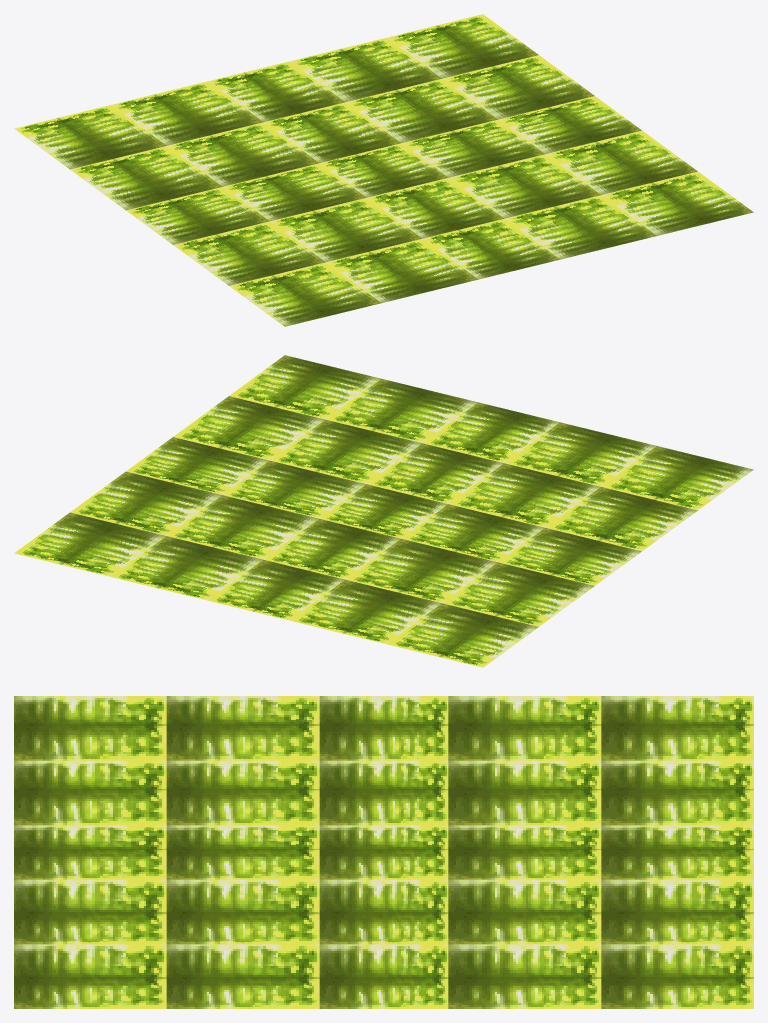
The model's file is demo-background.glb.
The picture shows the model from 3 angles, top to bottom: view 1: azimuth 30°, elevation 25°; view 2: azimuth 150°, elevation 25°; view 3: azimuth 270°, elevation 25°; orthographic projection. The views are drawn at different scales.
Bounding box in the file's own units: 0.9845 × 0 × 0.9845.
Materials: 2 (2 with a texture image).
